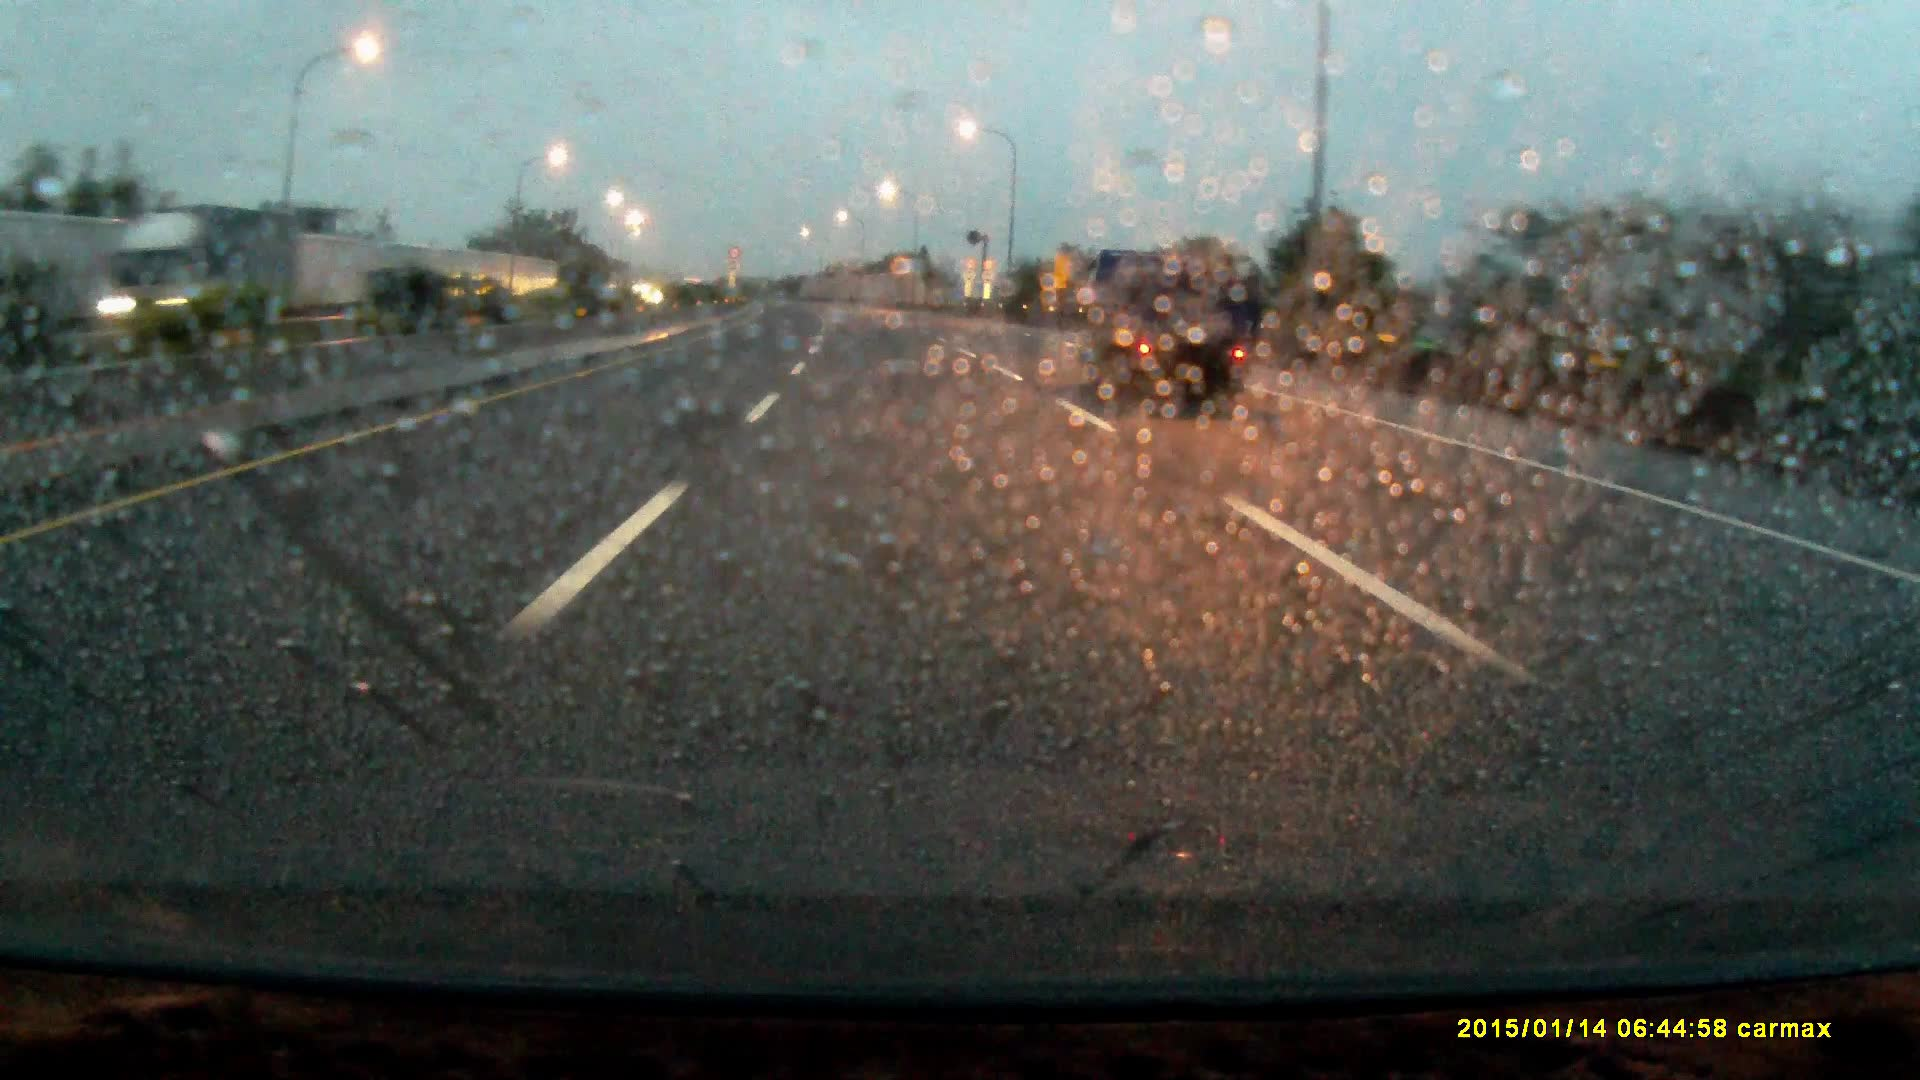vehicle: (1073, 247, 1244, 407), (128, 206, 280, 338)
